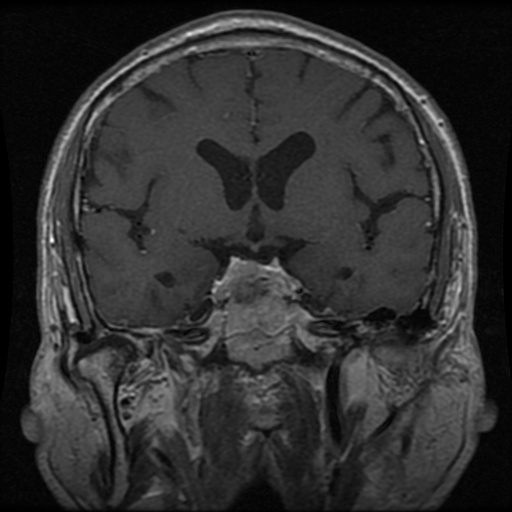pituitary: (211, 256, 300, 301)
